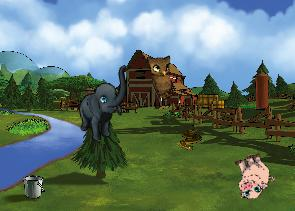elephant: (71, 65, 138, 143)
owl: (141, 48, 186, 102)
pig: (227, 149, 277, 202)
